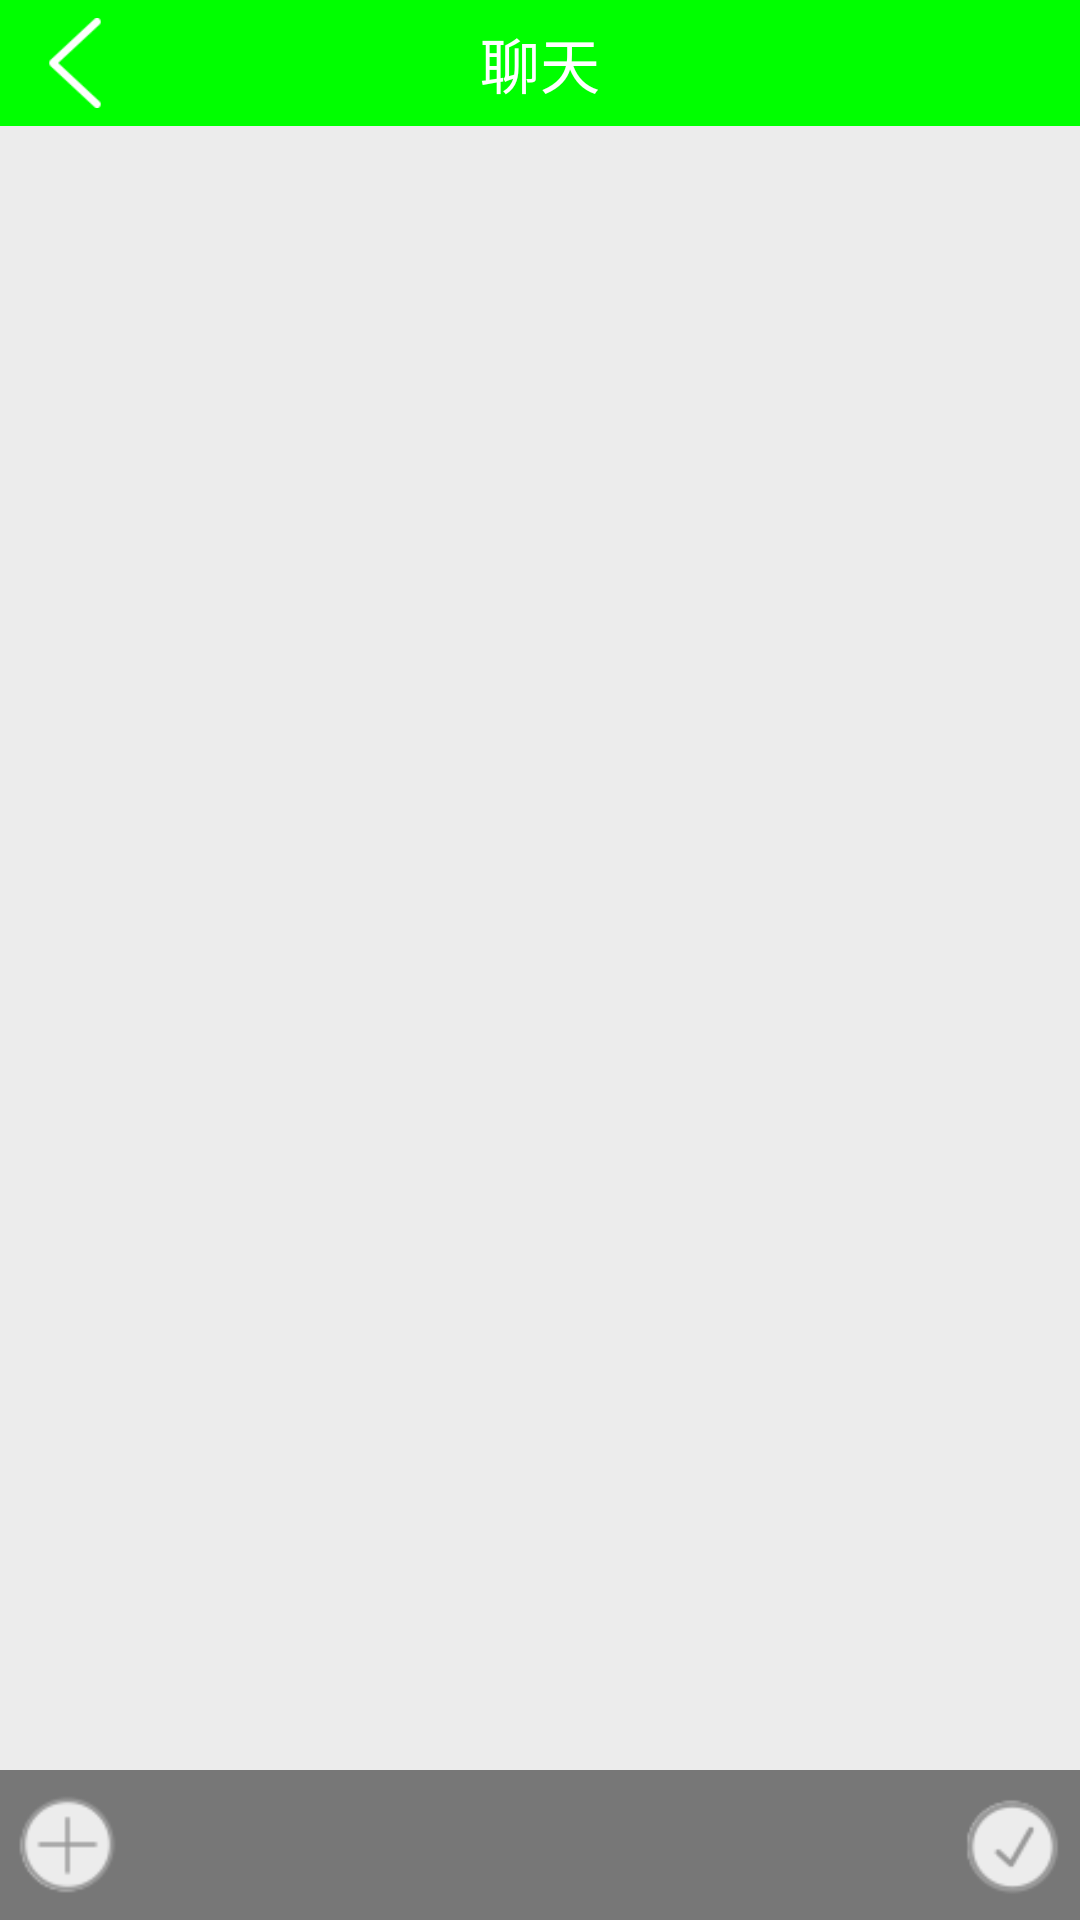

Screen size 1080px x 1920px. Icon name, then its center in pixels as (x=x, y=y):
arrow left: (x=75, y=63)
